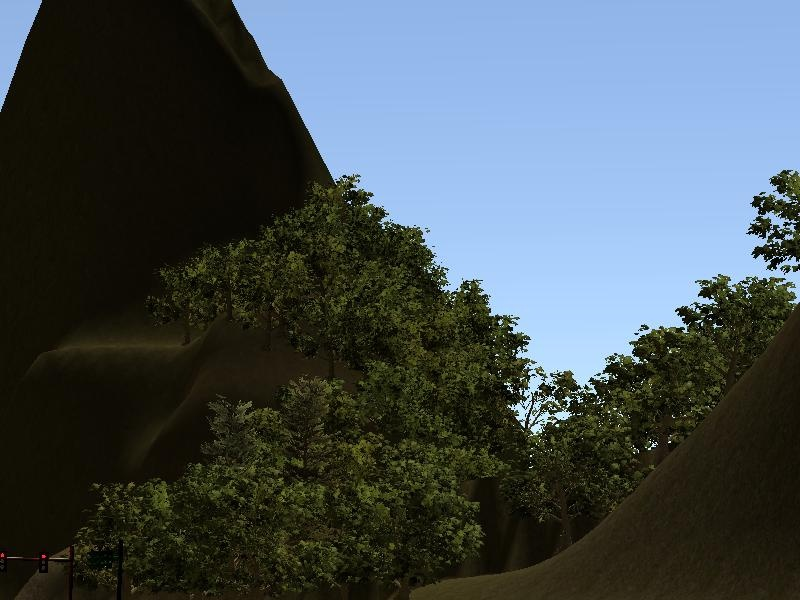Red: (38, 551, 49, 574), (1, 550, 8, 573)
